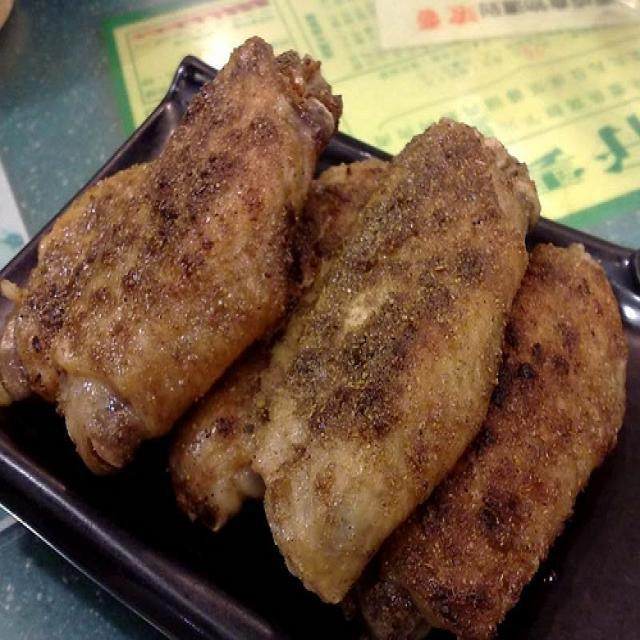Deep fried chicken wing: (27, 38, 626, 615)
